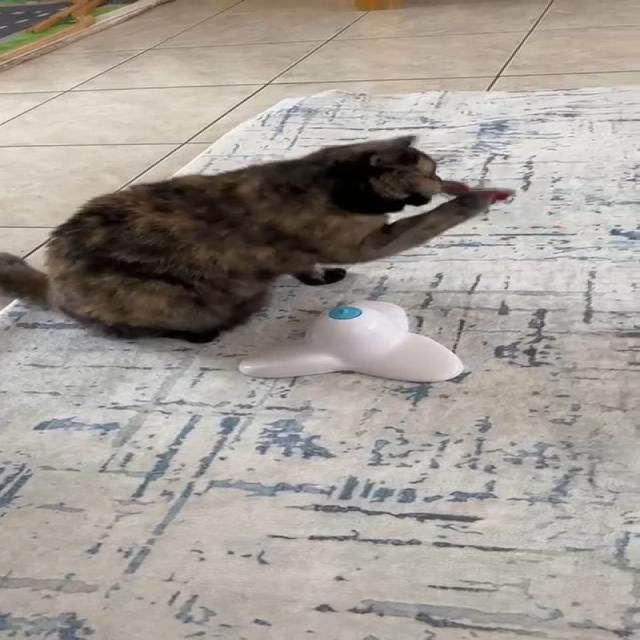authorized: (0, 132, 513, 344)
